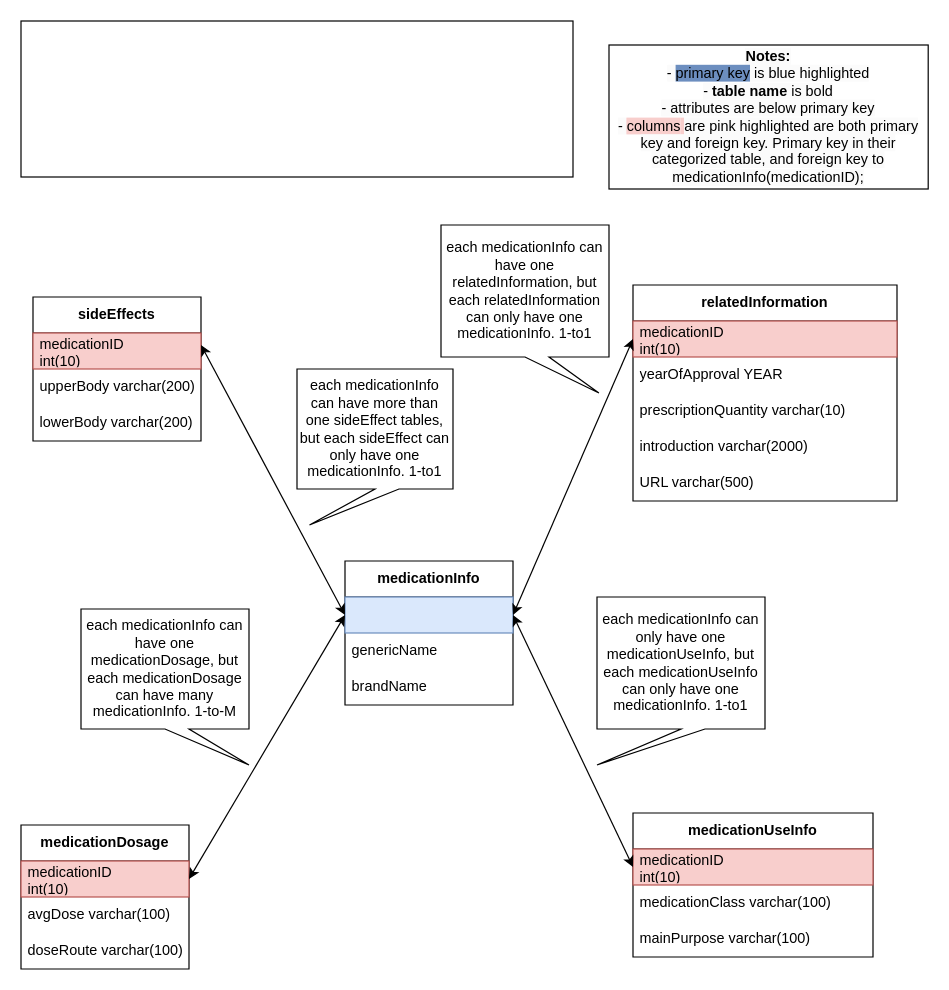
This 949x990 diagram has some shape labels left out. Here are the shapes that lost their labels. From the top down, the centre of each, then its label:
At (x=296, y=98): "Medications".
At (x=428, y=614): "medicationID".
